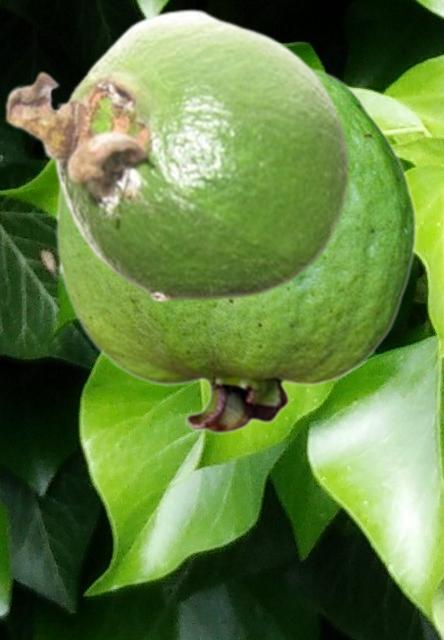guava: (55, 64, 417, 434), (3, 7, 351, 302)
